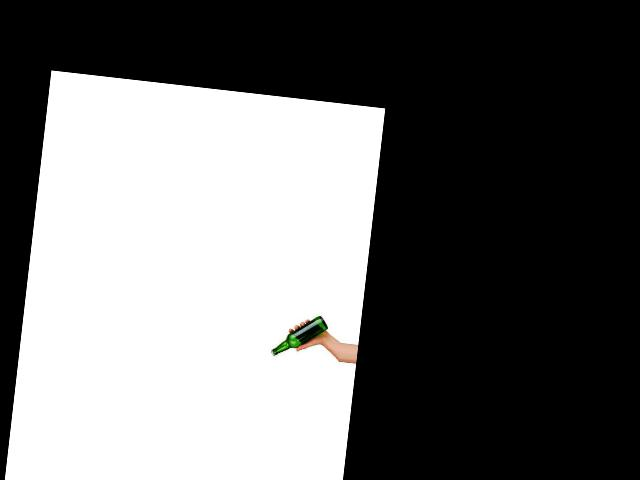beer: (271, 311, 330, 362)
